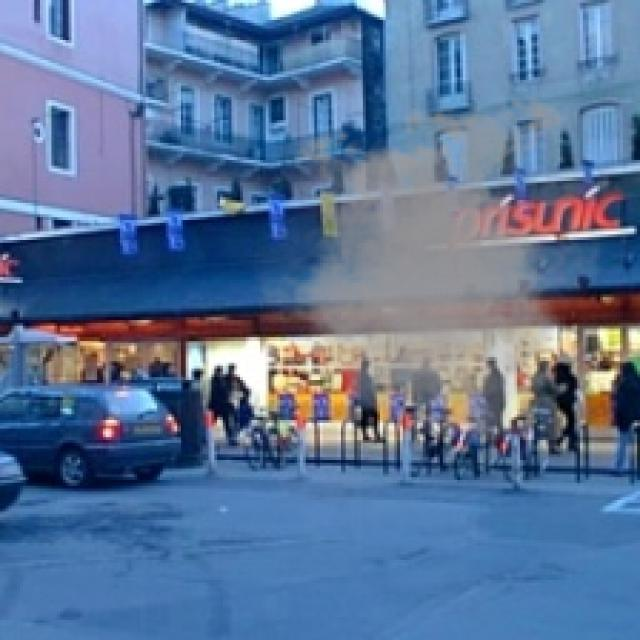Smoke: (240, 86, 620, 452)
